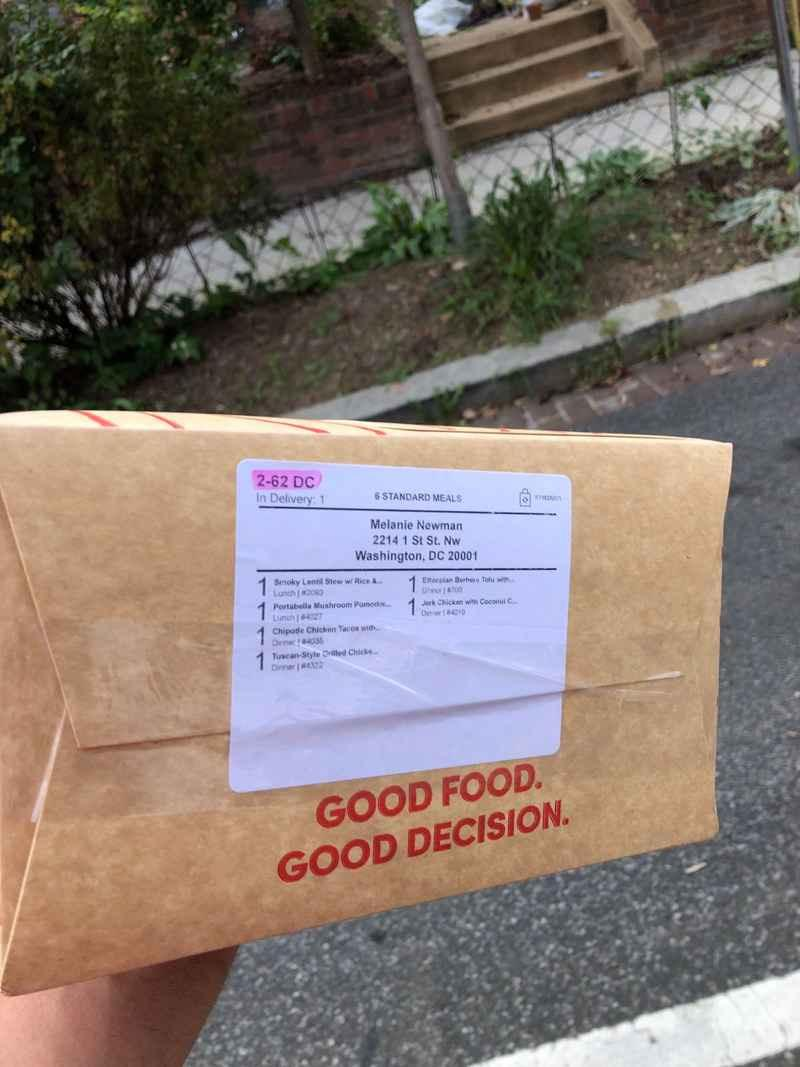package: (2, 420, 735, 985)
